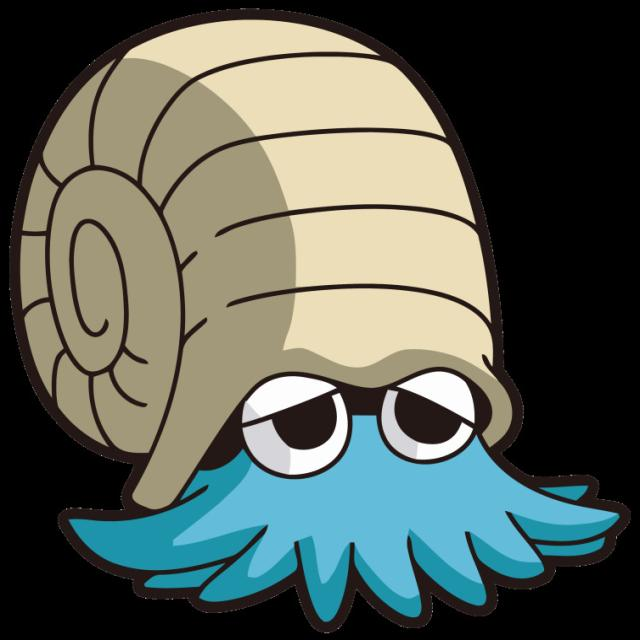Omanyte: (21, 13, 543, 598)
